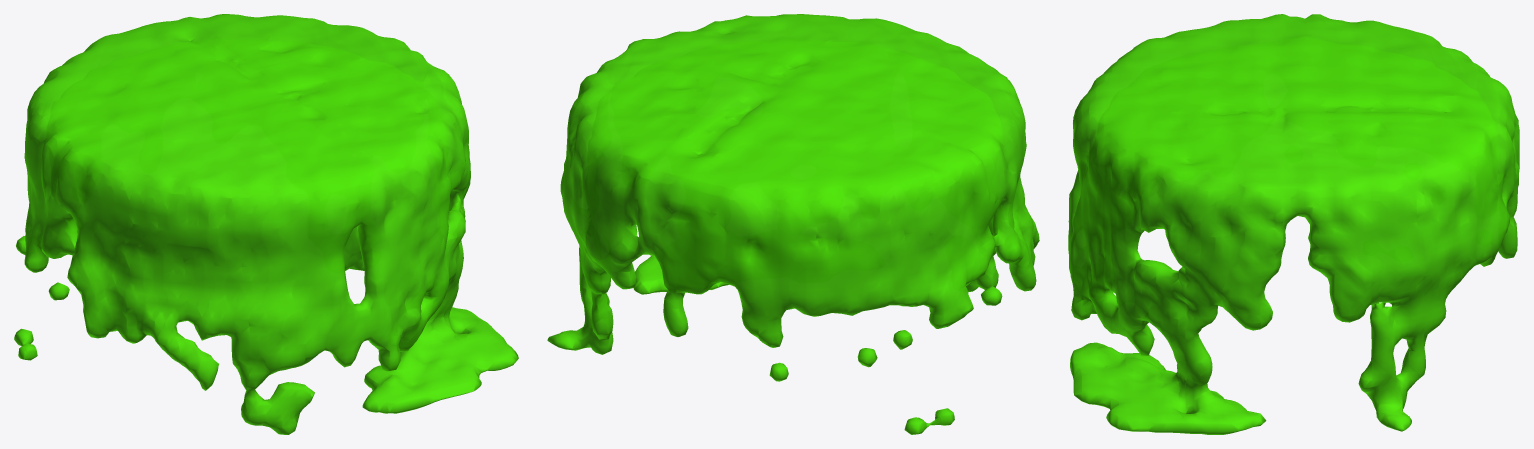
File: PanCake_PoisonCream.fbx
3 views of the same model, side by side, from view 1: azimuth 30°, elevation 25°; view 2: azimuth 150°, elevation 25°; view 3: azimuth 270°, elevation 25° (orthographic). The views are drawn at different scales.
Visible parts, largest first — view 1: PoisonCream; view 2: PoisonCream; view 3: PoisonCream.
Boxes of the visible parts, <box> form: PoisonCream: <box>14,14,518,434</box>; PoisonCream: <box>547,14,1039,434</box>; PoisonCream: <box>1068,14,1519,434</box>.
Bounding box in the file's own units: 1.01 × 0.6267 × 1.01.
